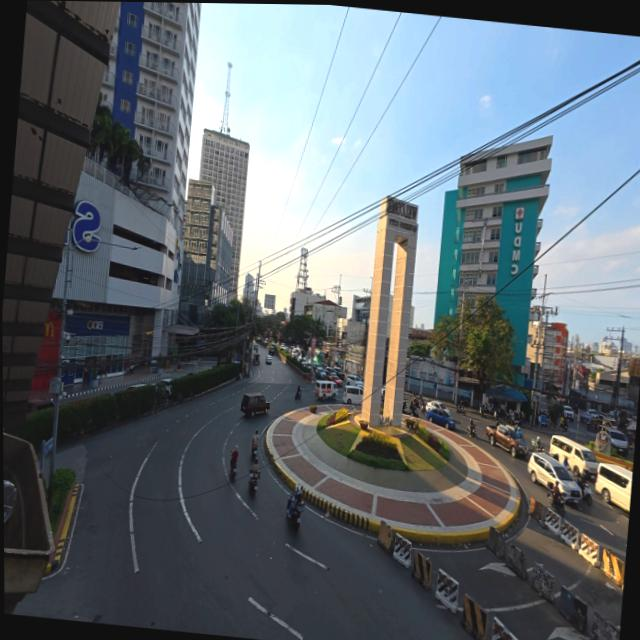Jeepneys: (252, 353, 259, 365)
car: (527, 452, 581, 503), (240, 394, 269, 418), (425, 408, 455, 429), (426, 400, 449, 417), (26, 399, 52, 412), (155, 378, 171, 395), (346, 373, 363, 386), (327, 374, 342, 386), (125, 383, 146, 391), (346, 372, 361, 383), (314, 367, 326, 380), (563, 406, 573, 420), (334, 367, 343, 380), (587, 410, 598, 419), (325, 367, 335, 375), (265, 353, 272, 364), (301, 360, 310, 368), (268, 345, 274, 355), (253, 344, 257, 352), (632, 444, 634, 451)
motorcycle: (572, 473, 595, 506), (287, 495, 304, 530), (547, 488, 564, 516), (248, 469, 261, 496), (530, 439, 543, 452), (408, 404, 417, 417), (467, 425, 475, 438), (229, 462, 235, 479), (456, 404, 465, 415), (419, 399, 426, 413), (251, 444, 257, 459), (294, 391, 300, 400), (401, 400, 405, 413)
trucks: (485, 424, 527, 458)
vans: (548, 435, 597, 480), (595, 463, 632, 512), (602, 426, 627, 455), (314, 380, 336, 400), (342, 385, 362, 405)
